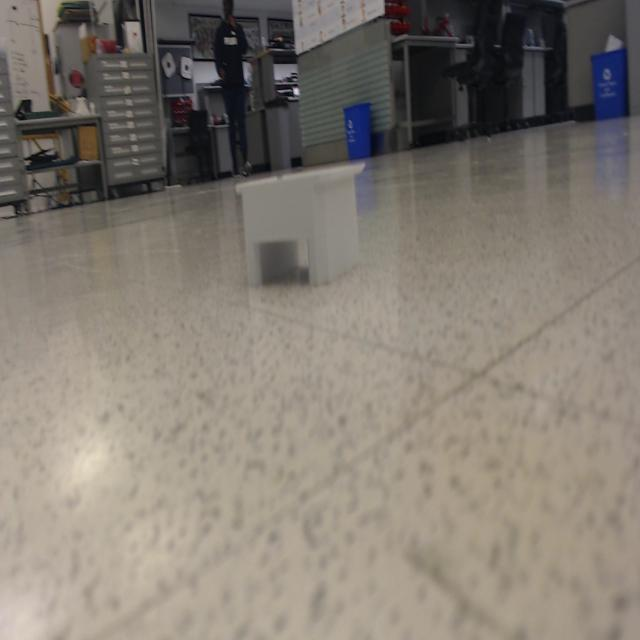wbox: (233, 154, 368, 290)
